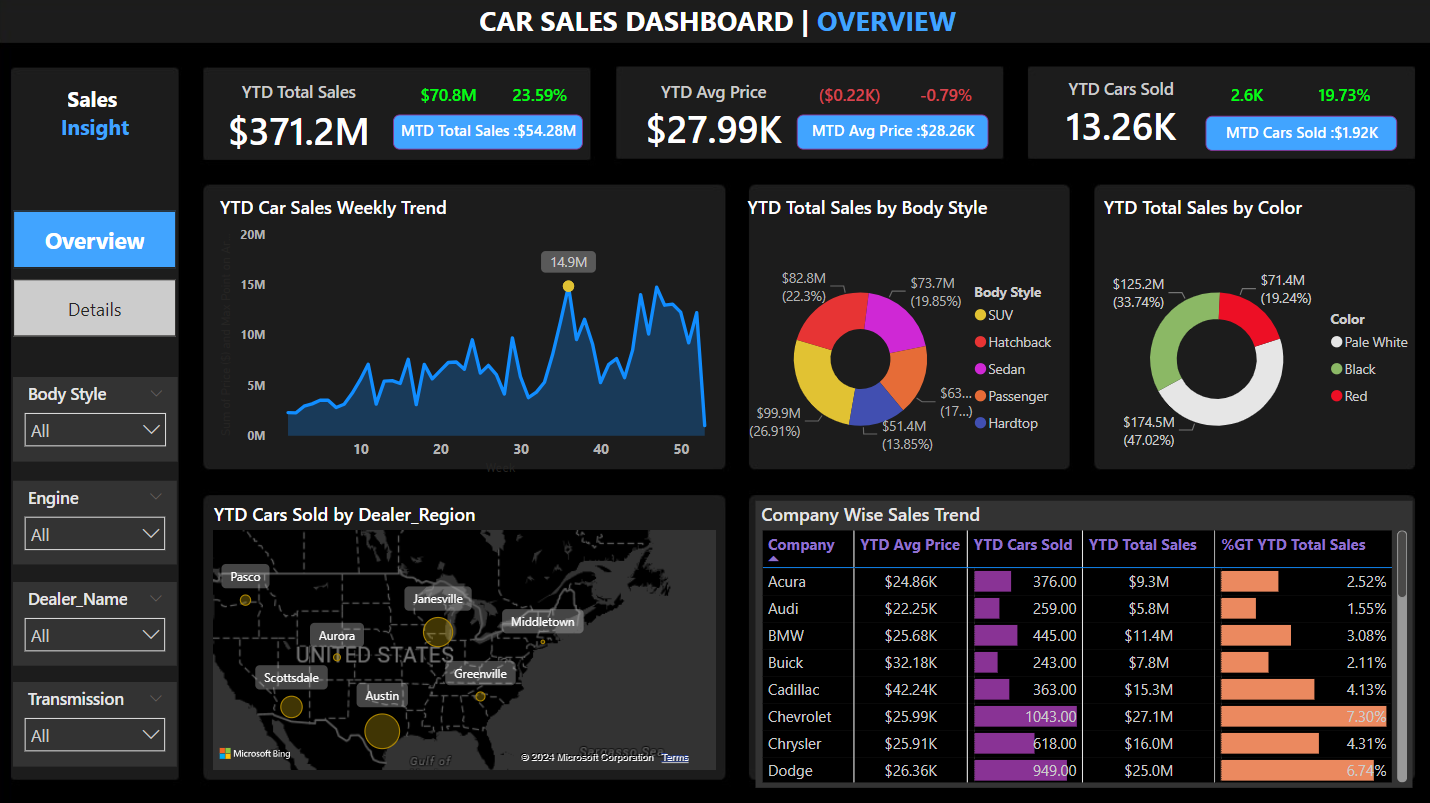

The dashboard page shown, as its layout file describes it:
{"tool":"powerbi","page":{"name":"Overview","canvas":[1280,720],"ordinal":0},"visuals":[{"type":"card","title":"YTD Total Sales","fields":{"Values":["car_data.YTD Total Sales"]},"box":[186.2,73.8,170,71.2],"z":0},{"type":"card","fields":{"Values":["car_data.Sales Difference"]},"box":[360,73.8,90,31.2],"z":1000},{"type":"card","fields":{"Values":["car_data.YoY Sales Growth"]},"box":[441.2,73.8,90,31.2],"z":2000},{"type":"card","title":"MTD Total Sales :","fields":{"Values":["car_data.MTD KPI"]},"box":[355.8,104.9,168.8,31.4],"z":3000},{"type":"card","title":"YTD Avg Price","fields":{"Values":["car_data.YTD Avg Price"]},"box":[555,73.8,170,67.5],"z":4000},{"type":"card","fields":{"Values":["car_data.Avg Price Diff"]},"box":[713.8,73.8,96.2,31.2],"z":5000},{"type":"card","title":"MTD Total Sales :","fields":{"Values":["car_data.MTD Avg KPI"]},"box":[714,104.9,170.1,31.4],"z":6000},{"type":"card","fields":{"Values":["car_data.YOY Avg Price Growth"]},"box":[798.8,73.8,96.2,31.2],"z":7000},{"type":"card","title":"YTD Cars Sold","fields":{"Values":["car_data.YTD Cars Sold"]},"box":[917.5,71.2,170,67.5],"z":8000},{"type":"card","fields":{"Values":["car_data.Cars Sold Diff"]},"box":[1066.2,73.8,96.2,31.2],"z":9000},{"type":"card","fields":{"Values":["car_data.YOY Cars Sold Growth"]},"box":[1153.8,73.8,96.2,31.2],"z":10000},{"type":"card","title":"MTD Total Sales :","fields":{"Values":["car_data.MTD Cars Sold KPI"]},"box":[1077.5,105,170,31.2],"z":11000},{"type":"areaChart","title":"YTD Car Sales Weekly Trend ","fields":{"Category":["Calender Table.Week"],"Y":["Sum(car_data.Price ($))","car_data.Max Point on Area Chart"]},"box":[196.6,176.1,458.3,254.5],"z":12000},{"type":"donutChart","fields":{"Category":["car_data.Body Style"],"Y":["car_data.YTD Total Sales"]},"box":[665.7,176.1,289.4,271.4],"z":13000},{"type":"donutChart","fields":{"Y":["car_data.YTD Total Sales"],"Category":["car_data.Color"]},"box":[981.7,176.1,289.4,271.4],"z":14000},{"type":"map","fields":{"Category":["car_data.Dealer_Region"],"Size":["car_data.YTD Cars Sold"]},"box":[190.7,447.3,456.9,244.3],"z":15000},{"type":"tableEx","title":"Company Wise Sales Trend","fields":{"Values":["car_data.Company","car_data.YTD Avg Price","car_data.YTD Cars Sold1","car_data.YTD Total Sales1","car_data.YTD Total Sales"]},"box":[677.9,447.3,584,255.2],"z":16000},{"type":"textbox","box":[424.5,0,446.2,43.4],"z":17000},{"type":"slicer","fields":{"Values":["car_data.Body Style"]},"box":[17.8,337.6,146,75],"z":18000},{"type":"slicer","fields":{"Values":["car_data.Dealer_Name"]},"box":[17.8,520,145.6,74.4],"z":19000},{"type":"slicer","fields":{"Values":["car_data.Transmission"]},"box":[17.8,608.9,145.6,75.6],"z":20000},{"type":"slicer","fields":{"Values":["car_data.Engine"]},"box":[17.8,430,145.6,74.4],"z":21000},{"type":"pageNavigator","box":[18.1,190.6,145.9,113.4],"z":22000},{"type":"textbox","box":[18.1,73.6,145.9,62.7],"z":22001}]}

Visuals, with their boxes in screenshot pixels (x1, y1, x2, y2), scaled from the page's 1280x720 canvas onto the 1430x803 screenshot:
"YTD Total Sales" card: box(208, 82, 398, 162)
card - car_data.Sales Difference: box(402, 82, 503, 117)
card - car_data.YoY Sales Growth: box(493, 82, 593, 117)
"MTD Total Sales :" card: box(397, 117, 586, 152)
"YTD Avg Price" card: box(620, 82, 810, 158)
card - car_data.Avg Price Diff: box(797, 82, 905, 117)
"MTD Total Sales :" card: box(798, 117, 988, 152)
card - car_data.YOY Avg Price Growth: box(892, 82, 1000, 117)
"YTD Cars Sold" card: box(1025, 79, 1215, 155)
card - car_data.Cars Sold Diff: box(1191, 82, 1299, 117)
card - car_data.YOY Cars Sold Growth: box(1289, 82, 1396, 117)
"MTD Total Sales :" card: box(1204, 117, 1394, 152)
"YTD Car Sales Weekly Trend " areaChart: box(220, 196, 732, 480)
donutChart - car_data.Body Style x car_data.YTD Total Sales: box(744, 196, 1067, 499)
donutChart - car_data.YTD Total Sales x car_data.Color: box(1097, 196, 1420, 499)
map - car_data.Dealer_Region x car_data.YTD Cars Sold: box(213, 499, 723, 771)
"Company Wise Sales Trend" tableEx: box(757, 499, 1410, 783)
textbox: box(474, 0, 973, 48)
slicer - car_data.Body Style: box(20, 377, 183, 460)
slicer - car_data.Dealer_Name: box(20, 580, 183, 663)
slicer - car_data.Transmission: box(20, 679, 183, 763)
slicer - car_data.Engine: box(20, 480, 183, 563)
pageNavigator: box(20, 213, 183, 339)
textbox: box(20, 82, 183, 152)
